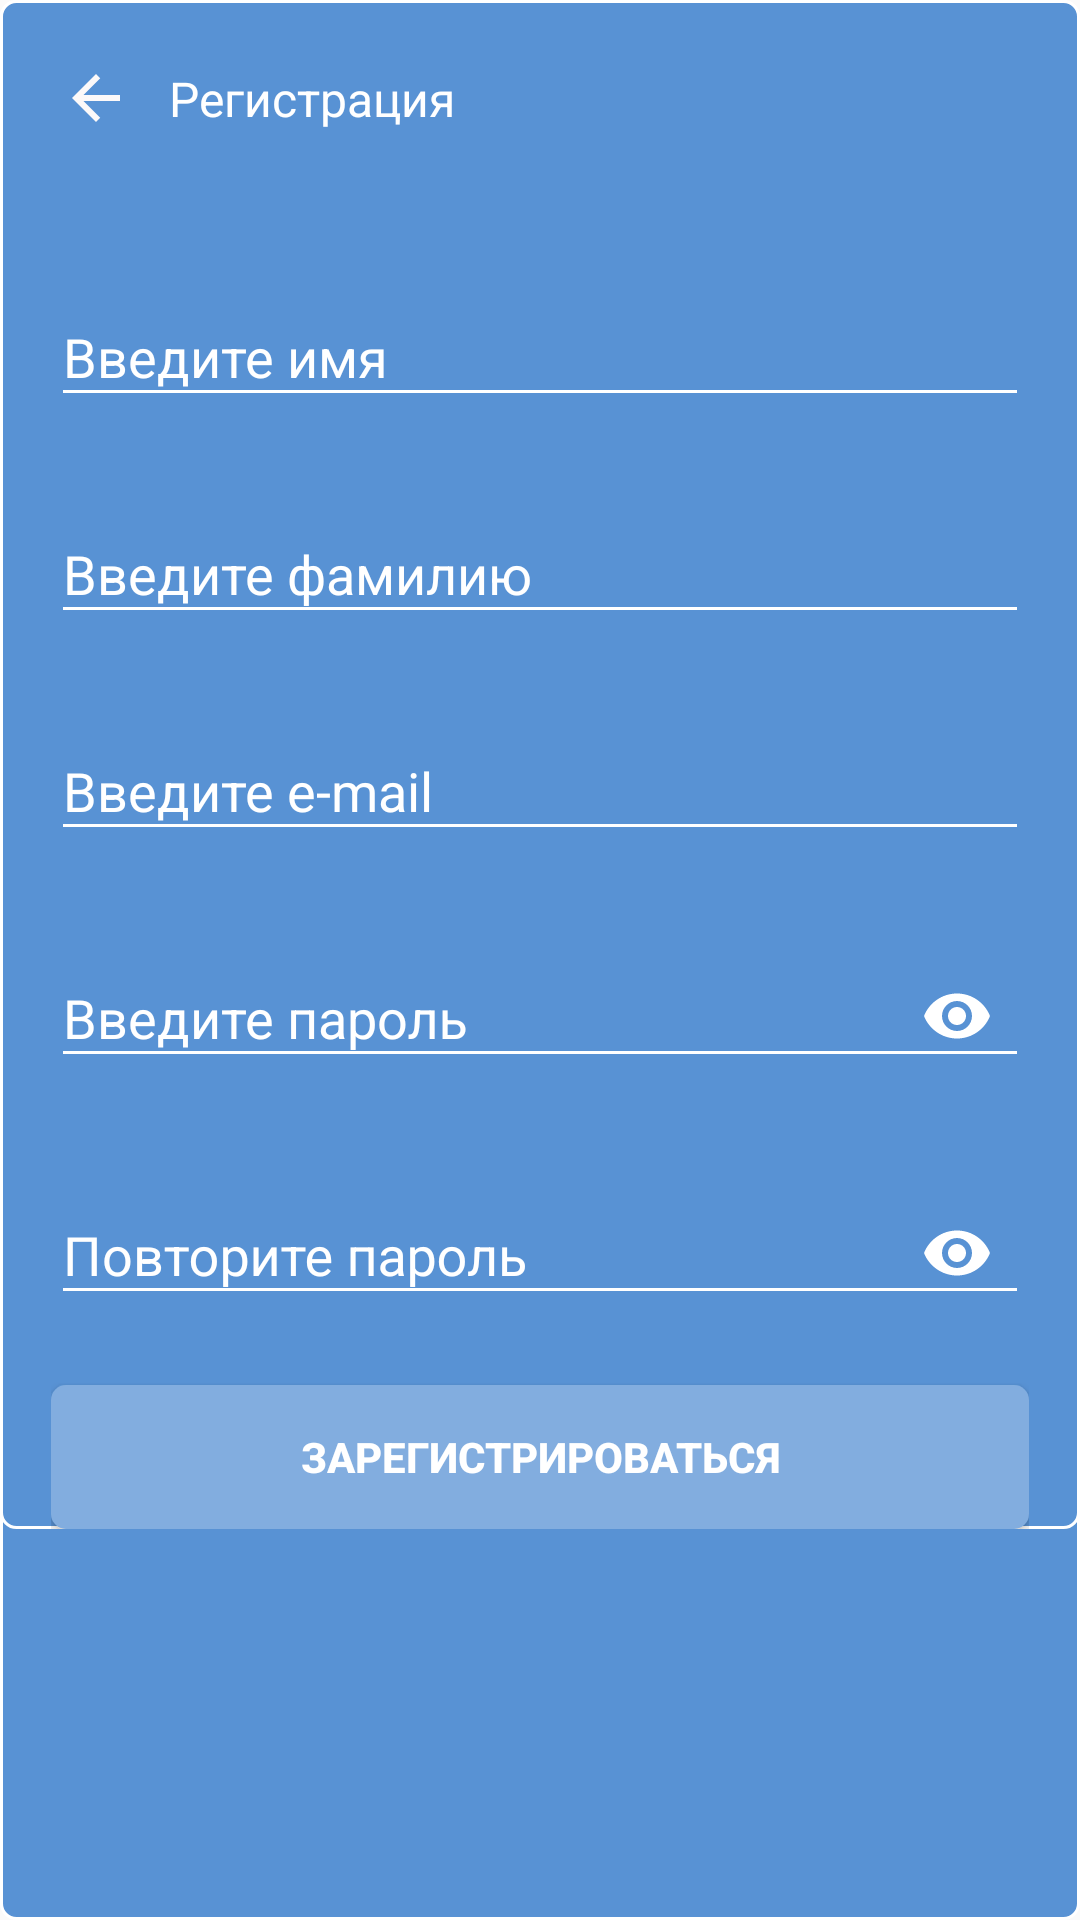

Named icons in this screenshot (1080×1920) and their bounding boxes, (x1, y1, x2, y2):
arrow back: (72, 74, 120, 122)
